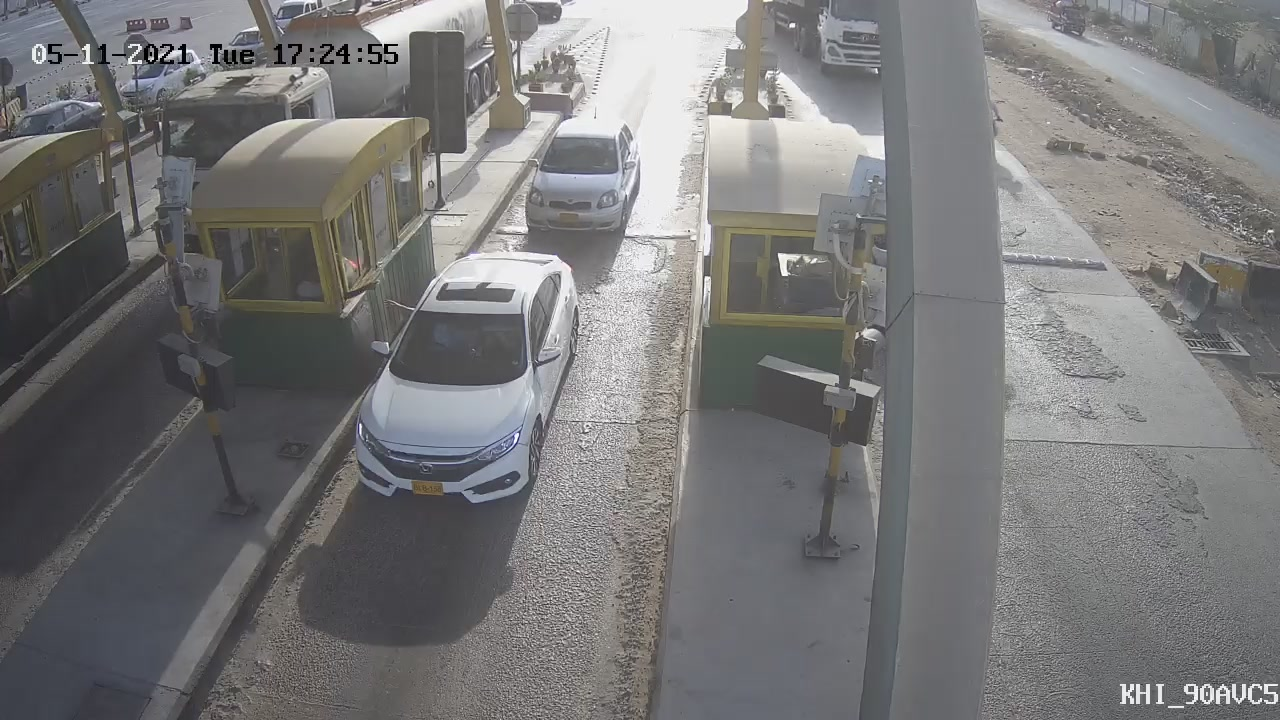F1: (312, 233, 604, 542), (500, 101, 657, 259)
